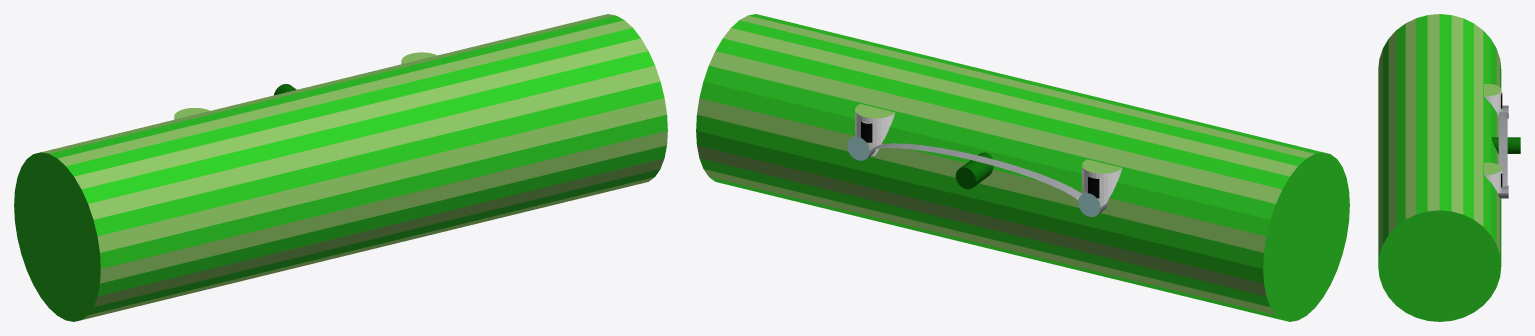
File: old-cylinder.glb
The picture shows the model from 3 angles, left to right: view 1: azimuth 30°, elevation 25°; view 2: azimuth 150°, elevation 25°; view 3: azimuth 270°, elevation 25°; orthographic projection. The views are drawn at different scales.
Parts seen in each view (by area): view 1: Cylinder.002; view 2: Cylinder.002; view 3: Cylinder.002.
Part boxes in pixels (x1,y1,x2,y2): Cylinder.002: (14, 14, 667, 321); Cylinder.002: (696, 14, 1349, 321); Cylinder.002: (1378, 14, 1520, 321).
Size of the model in its own units: 5.5 by 1.46 by 1.69.
